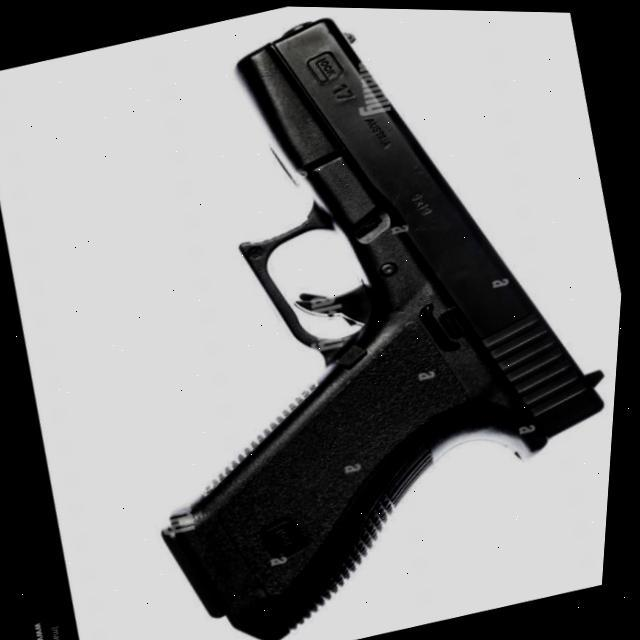gun: (2, 1, 640, 640)
